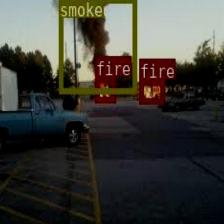fire: (138, 79, 163, 103), (94, 76, 115, 102)
smoke: (58, 0, 136, 93)
